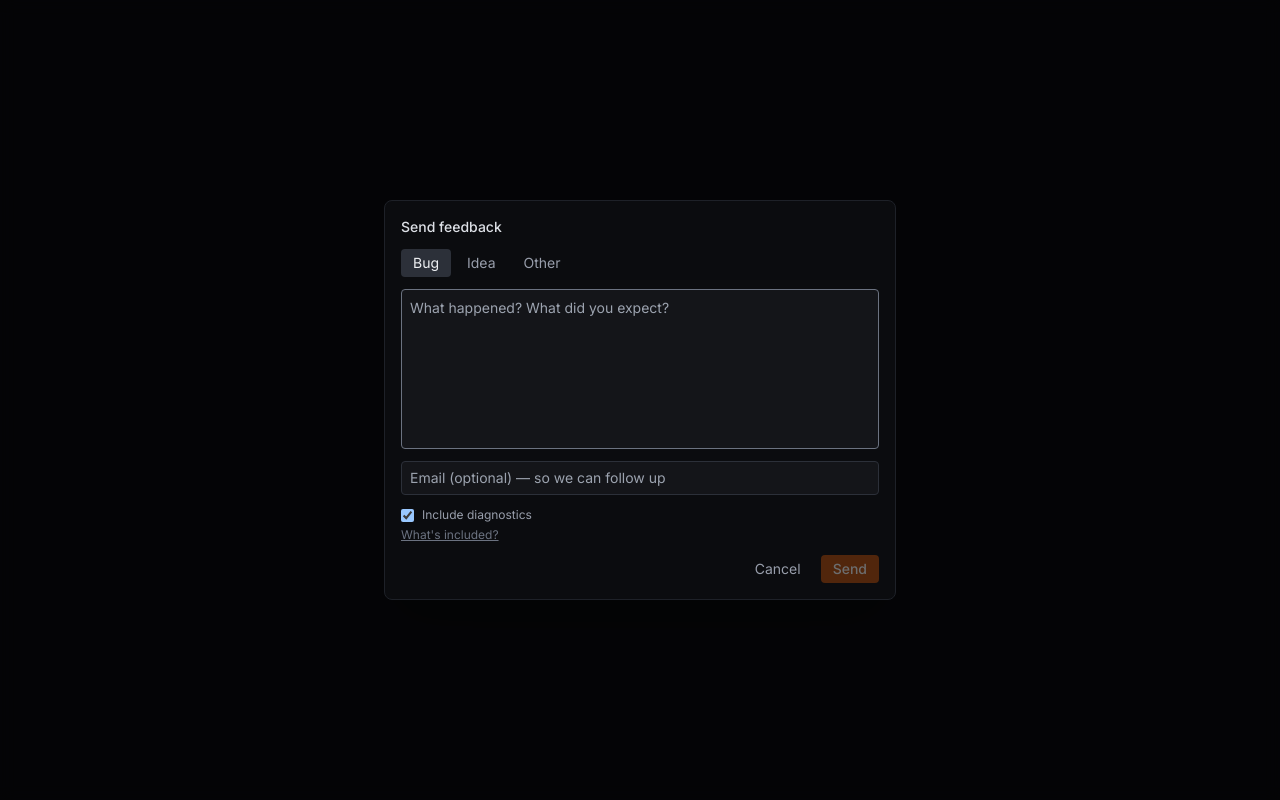
Scenario: FeedbackDialog › shows the diagnostics toggle only for Bug
Check: the checkbox labelled "Include diagnostics" is shown, box [401,508,414,522]
Click the button "Idea" at (481,263), box [455,249,508,277]
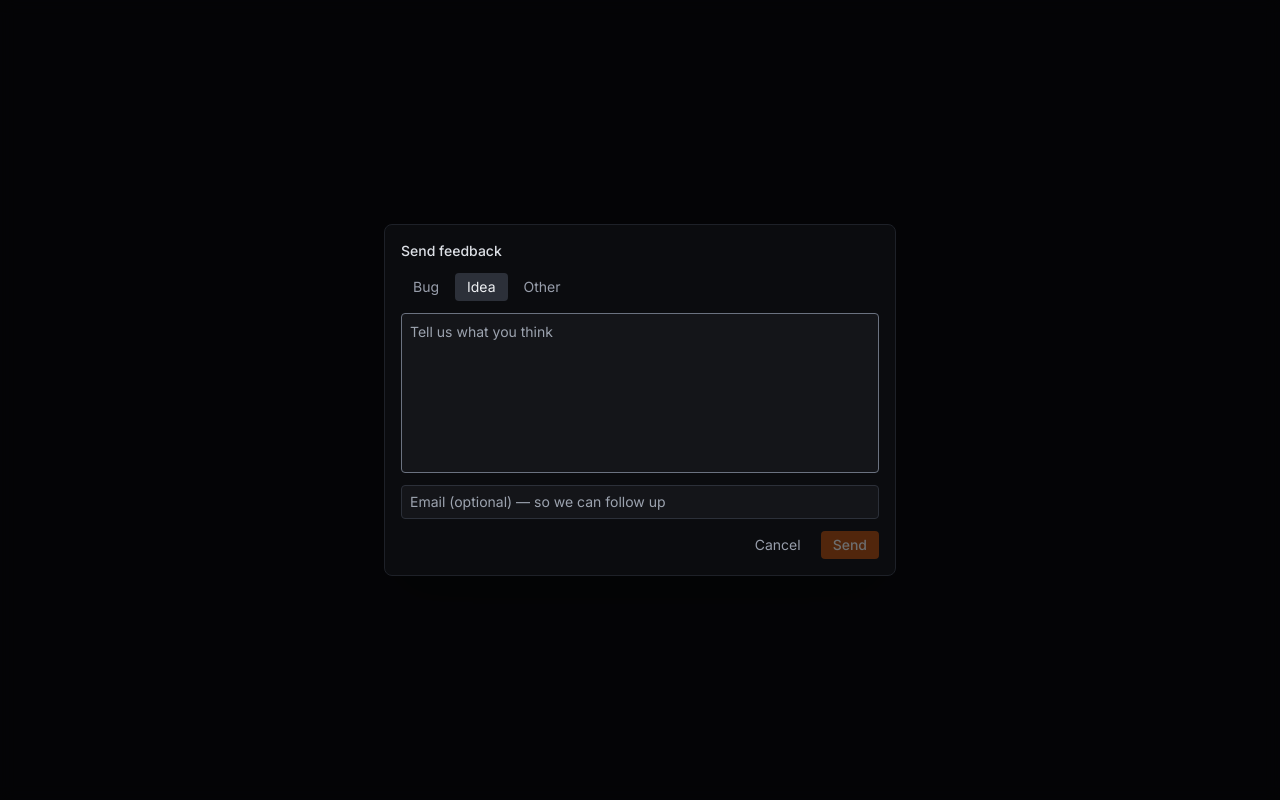
Check: the label labelled "Include diagnostics" is gone
